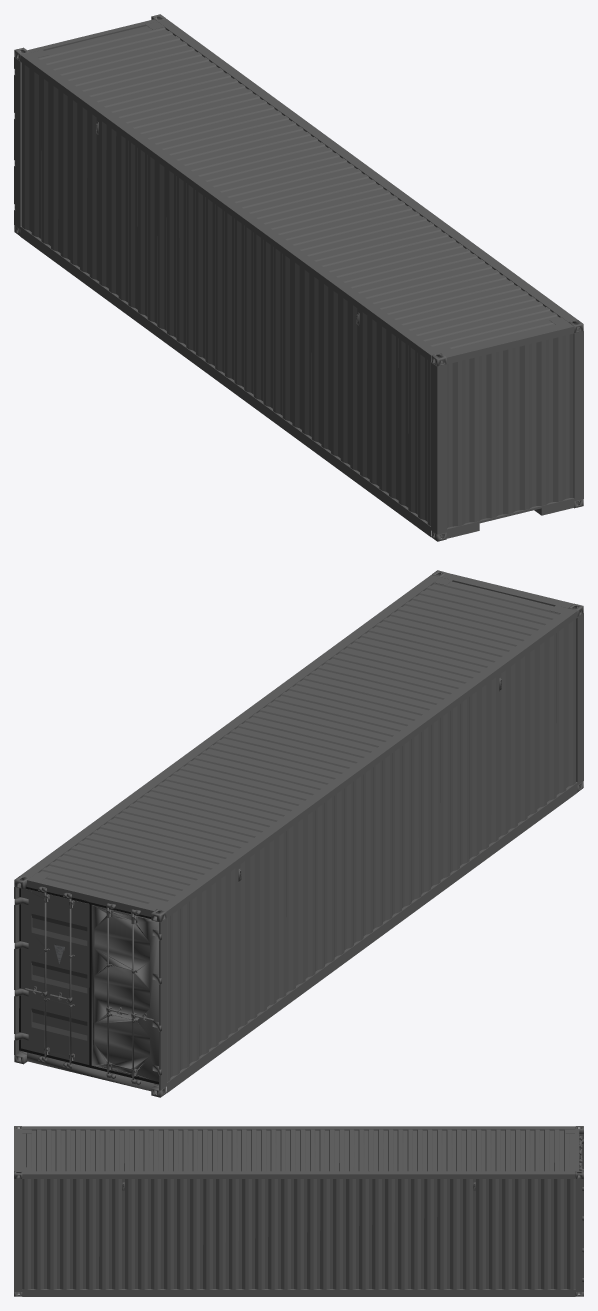
File: Container_40ftHC_LOD1.fbx
3 views of the same model, one above another, from view 1: azimuth 30°, elevation 25°; view 2: azimuth 150°, elevation 25°; view 3: azimuth 270°, elevation 25° (orthographic). The views are drawn at different scales.
Parts seen in each view (by area): view 1: Container_40ftHC_LOD1; view 2: Container_40ftHC_LOD1; view 3: Container_40ftHC_LOD1.
Boxes of the visible parts, <box> form: Container_40ftHC_LOD1: <box>14,14,583,541</box>; Container_40ftHC_LOD1: <box>14,570,583,1097</box>; Container_40ftHC_LOD1: <box>14,1126,583,1296</box>.
Bounding box in the file's own units: 244 × 290 × 1219.
